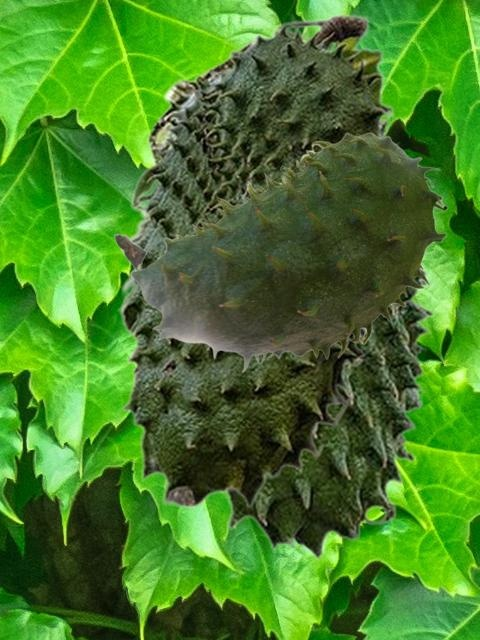guyabano: (139, 37, 436, 559), (117, 12, 393, 509), (113, 132, 447, 372)
